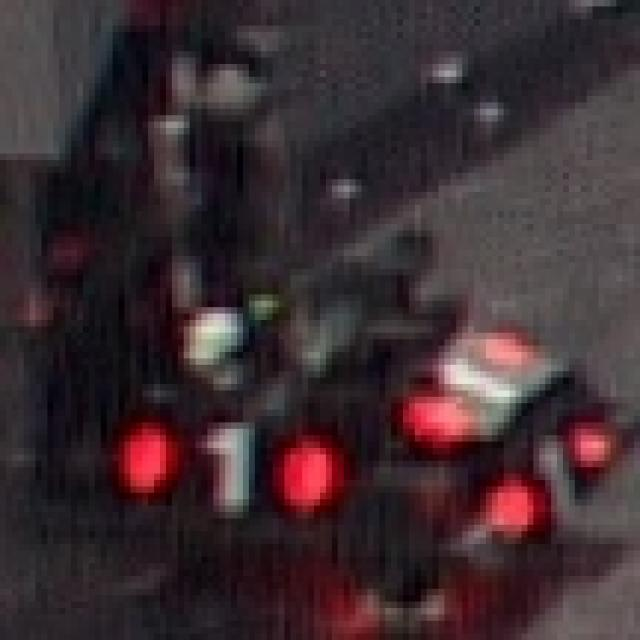R1: (118, 416, 332, 518), (397, 314, 557, 448), (486, 416, 616, 544)
